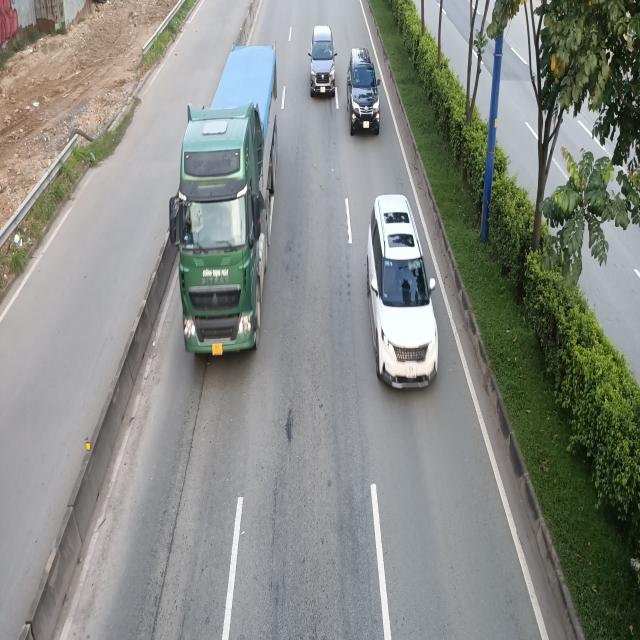car: (369, 194, 439, 392), (345, 48, 381, 135), (312, 26, 339, 98)
container: (173, 40, 281, 358)
